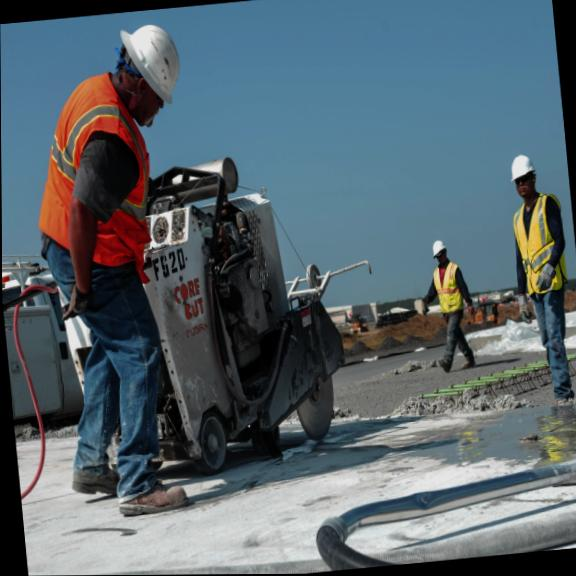safety_vest: (34, 63, 165, 279), (506, 191, 570, 300), (428, 260, 467, 313)
